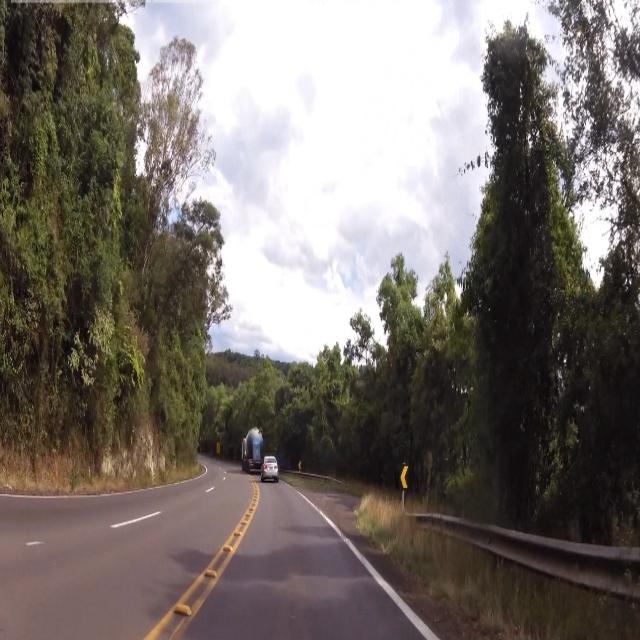Del: (399, 459, 409, 497)
